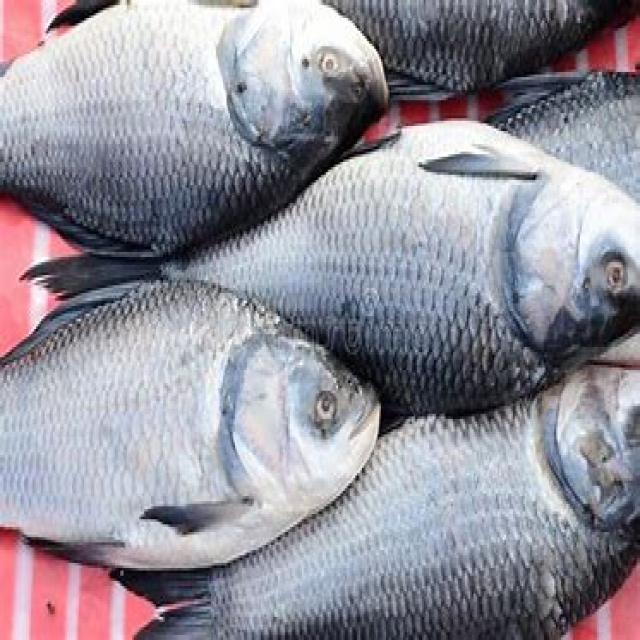Catla: (160, 120, 638, 418), (115, 367, 638, 637), (1, 280, 379, 570), (0, 0, 389, 276)
